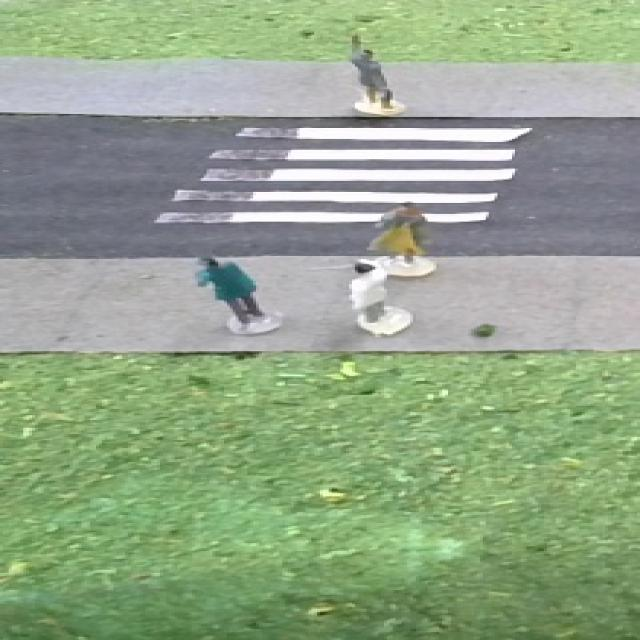person: (193, 255, 283, 337), (343, 28, 406, 116), (340, 260, 406, 333), (372, 201, 433, 272)
